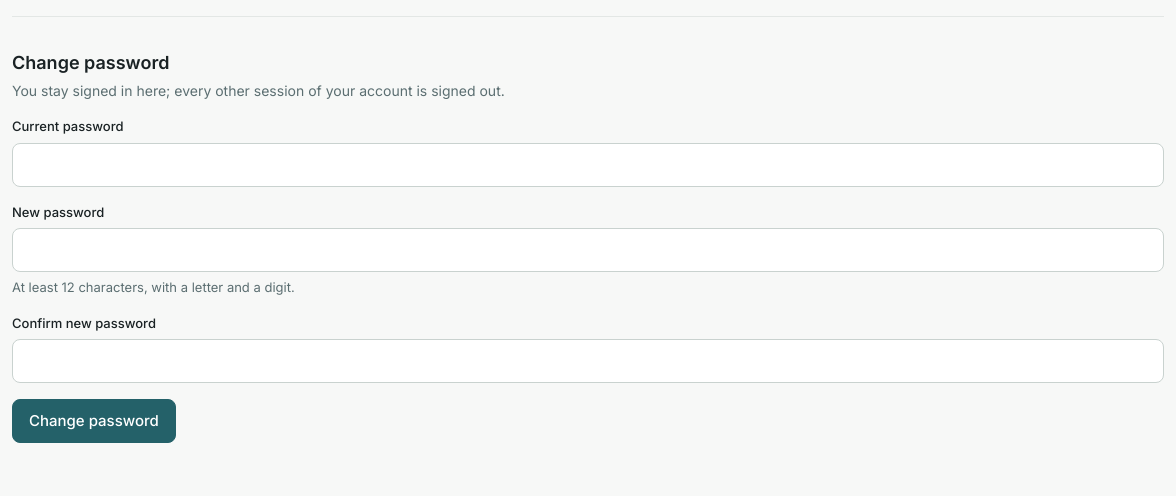
the limit shows the server sentence
Type "old-password-12" into the password field labelled "Current password".
click(588, 164); type("old-password-12")  # box [12,142,1164,186]
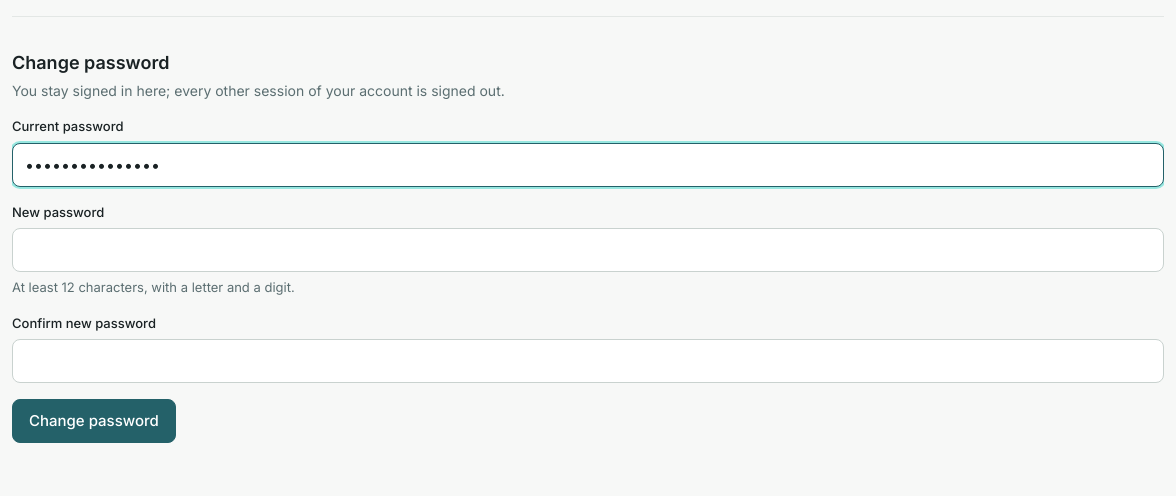
Type "new-password-34" into the password field labelled "New password".
click(588, 250); type("new-password-34")  # box [12,228,1164,272]
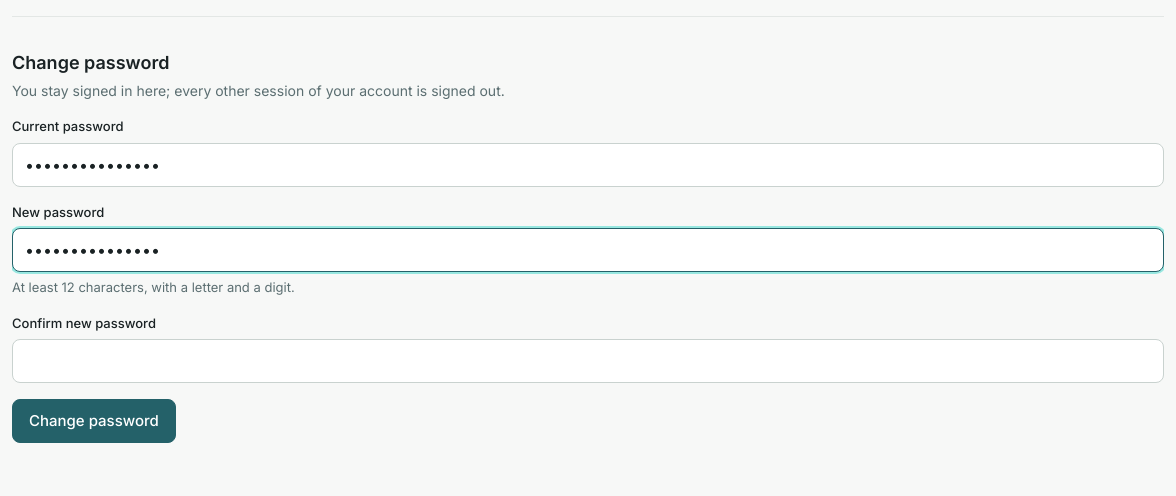
Type "new-password-34" into the password field labelled "Confirm new password".
click(588, 361); type("new-password-34")  # box [12,339,1164,383]
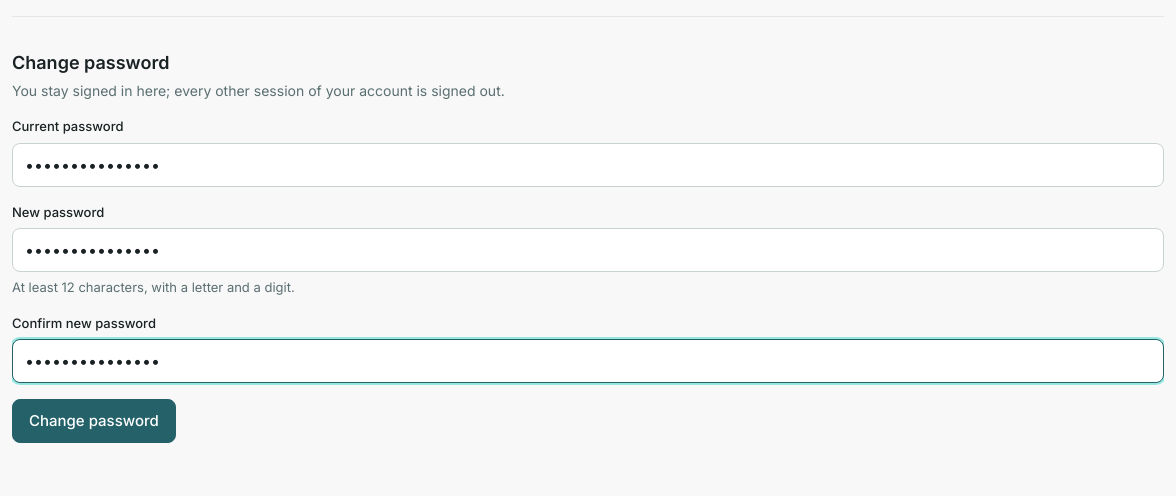
Click the button "Change password".
click(94, 421)  # box [12,399,176,443]
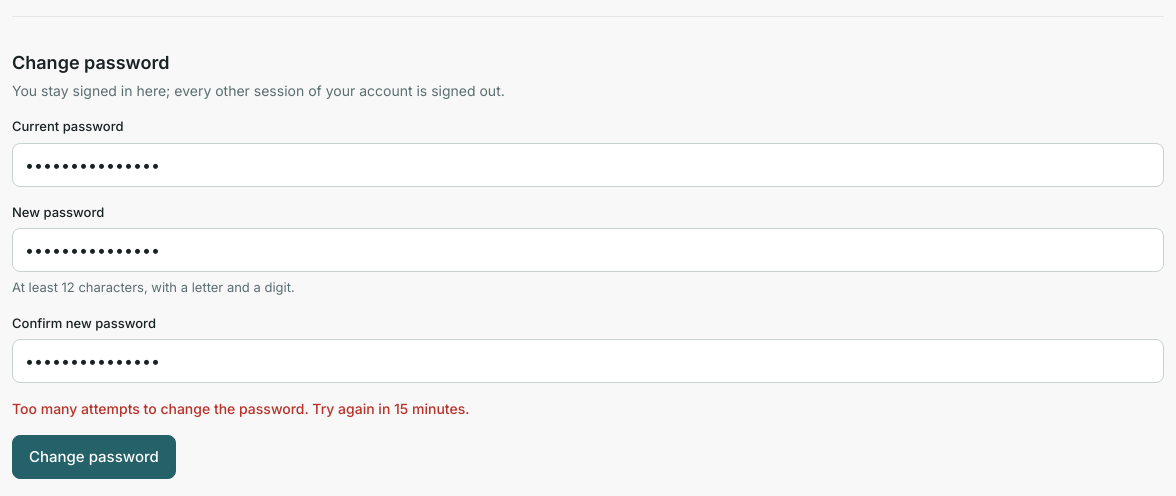
Result: the text "Too many attempts to change the password. Try again in 15 minutes." is shown at [12,400,470,417]
